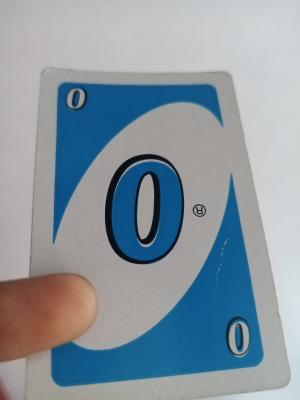blue: (56, 84, 248, 367)
num_0: (223, 313, 258, 358), (60, 82, 89, 116)
